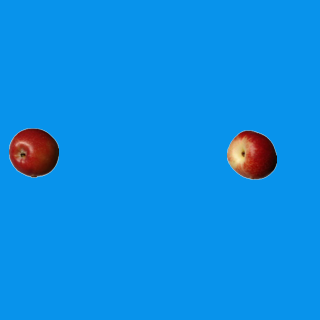Apple Braeburn: (8, 127, 58, 177)
Nectarine: (226, 129, 276, 179)
